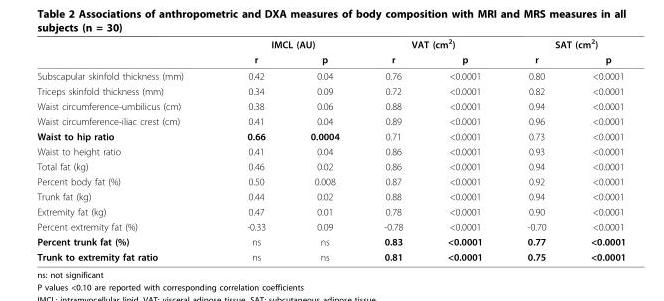table: (36, 36, 625, 262)
table column: (36, 36, 214, 262), (424, 36, 504, 262), (287, 36, 361, 262), (214, 36, 287, 262), (361, 36, 424, 262), (504, 36, 567, 262), (567, 36, 625, 262)
table column header: (36, 36, 625, 67)
table row: (36, 51, 625, 67), (36, 67, 625, 83), (36, 36, 625, 51), (36, 83, 625, 98), (36, 98, 625, 113), (36, 113, 625, 128), (36, 128, 625, 143), (36, 143, 625, 158), (36, 158, 625, 173), (36, 173, 625, 188), (36, 188, 625, 203), (36, 203, 625, 218), (36, 218, 625, 233), (36, 233, 625, 248), (36, 248, 625, 262)
table spanning cell: (214, 36, 361, 51), (361, 36, 504, 51), (504, 36, 625, 51)
